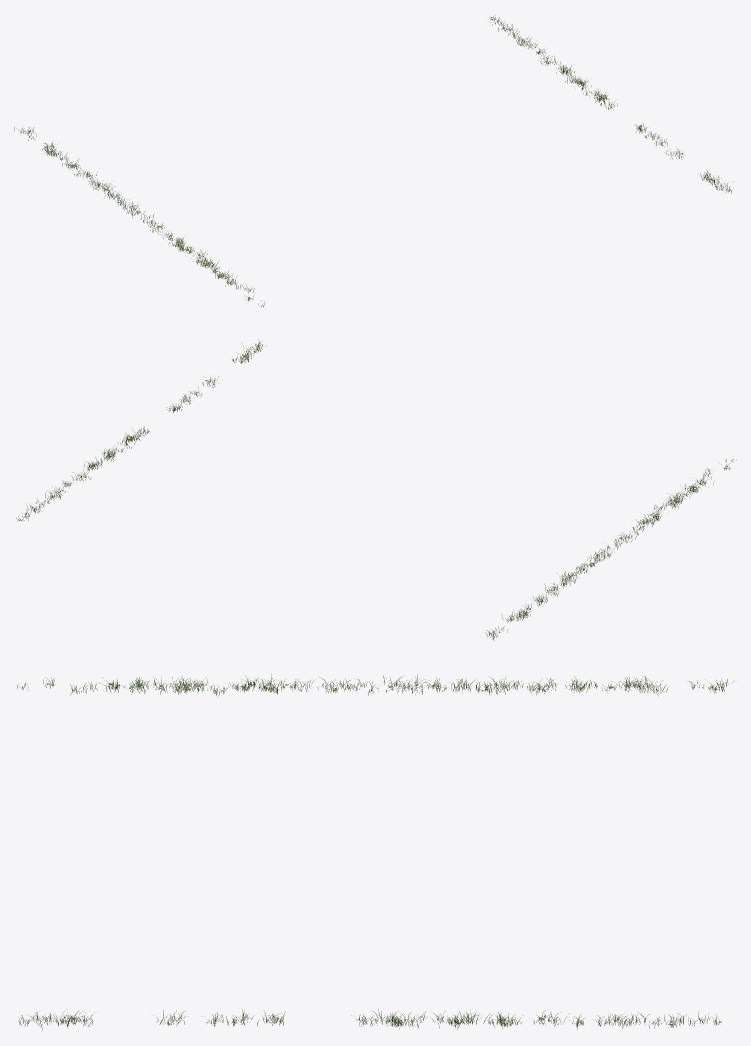
File: natural-grass-walls.glb
The picture shows the model from 3 angles, top to bottom: view 1: azimuth 30°, elevation 25°; view 2: azimuth 150°, elevation 25°; view 3: azimuth 270°, elevation 25°; orthographic projection. The views are drawn at different scales.
Parts seen in each view (by area): view 1: V10_WildGrass_wall_-04_+00, V10_WildGrass_wall_-04_+01, V10_WildGrass_wall_-02_+01; view 2: V10_WildGrass_wall_-04_+00, V10_WildGrass_wall_-04_+01, V10_WildGrass_wall_-02_+01; view 3: V10_WildGrass_wall_-04_+00, V10_WildGrass_wall_-04_+01, V10_WildGrass_wall_-02_+01, V10_WildGrass_wall_-02_+00.
Boxes of the visible parts, left/top/right/bottom form: V10_WildGrass_wall_-04_+00: left=126, top=206, right=237, bottom=286; V10_WildGrass_wall_-04_+01: left=24, top=127, right=138, bottom=211; V10_WildGrass_wall_-02_+01: left=489, top=16, right=601, bottom=97; V10_WildGrass_wall_-04_+00: left=595, top=476, right=714, bottom=558; V10_WildGrass_wall_-04_+01: left=485, top=552, right=604, bottom=636; V10_WildGrass_wall_-02_+01: left=16, top=437, right=134, bottom=521; V10_WildGrass_wall_-04_+00: left=99, top=674, right=417, bottom=695; V10_WildGrass_wall_-04_+01: left=396, top=674, right=724, bottom=695; V10_WildGrass_wall_-02_+01: left=403, top=1010, right=721, bottom=1029; V10_WildGrass_wall_-02_+00: left=156, top=1009, right=409, bottom=1029.
Bounding box in the file's own units: 13.58 × 0.2043 × 11.75.
Materials: 2 (1 with a texture image).
